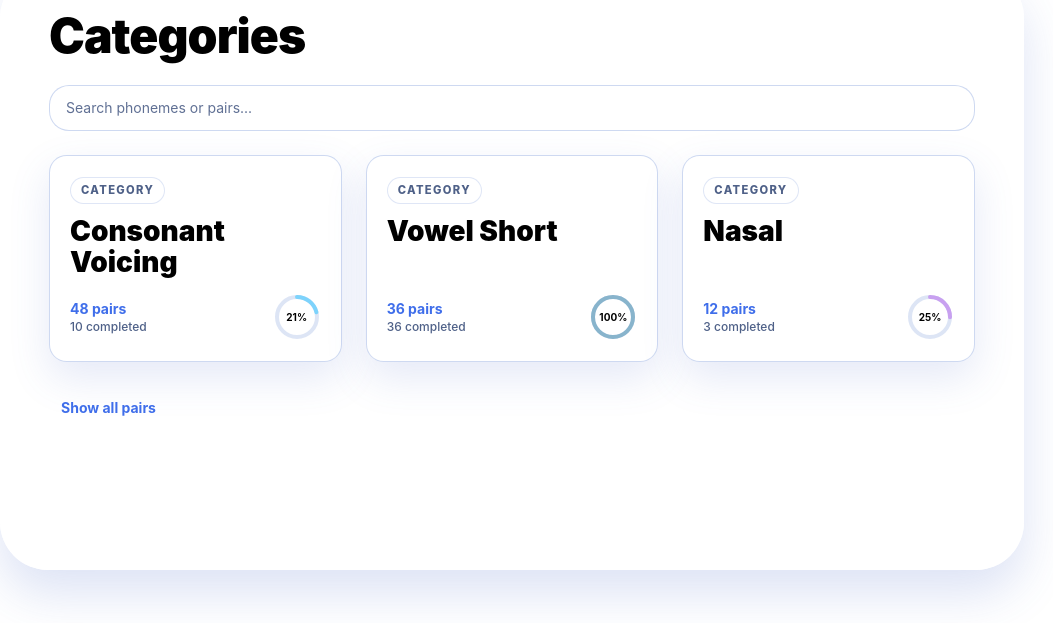
Test: CategoriesStage › filters categories by search query
Type "nas" into the field named "search categories" at (512, 108), box [49, 85, 975, 131]
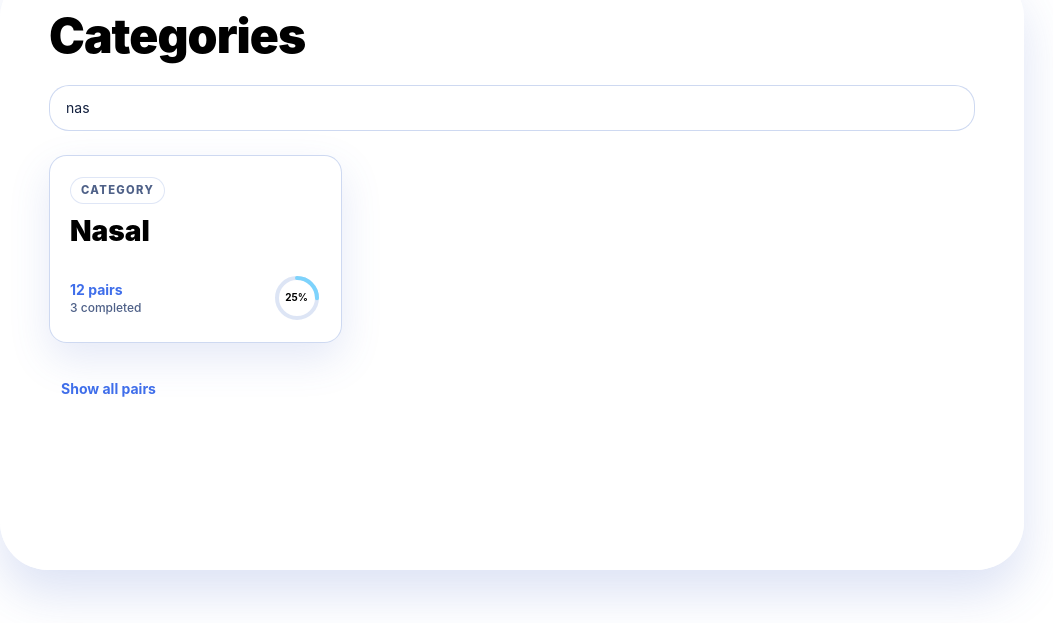
Expected: the button "Category nasal 12 pairs 3 completed 25%" is shown, [49, 155, 342, 343]
Result: the button "consonant voicing" is gone
